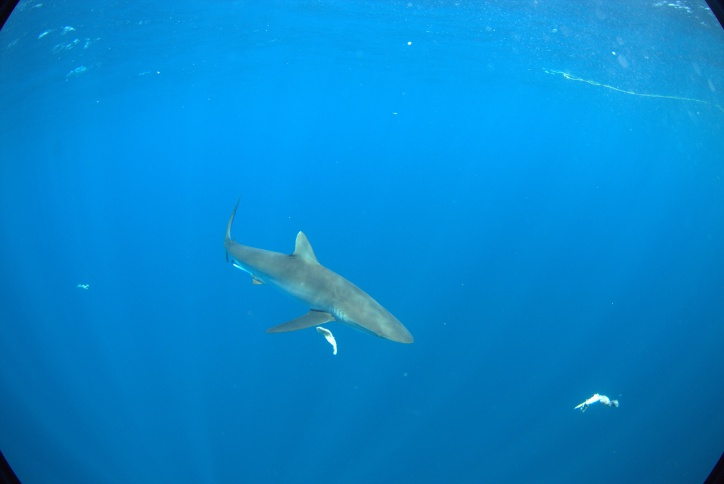Sedoso: (210, 189, 425, 349)
